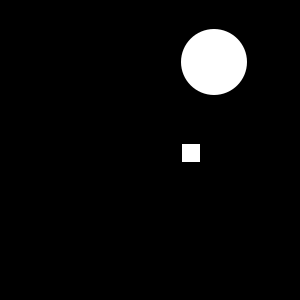circle: (182, 144, 200, 162)
rectangle: (181, 29, 247, 95)
